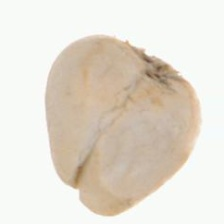L3: (58, 174, 100, 215)
L4: (43, 34, 202, 216)
